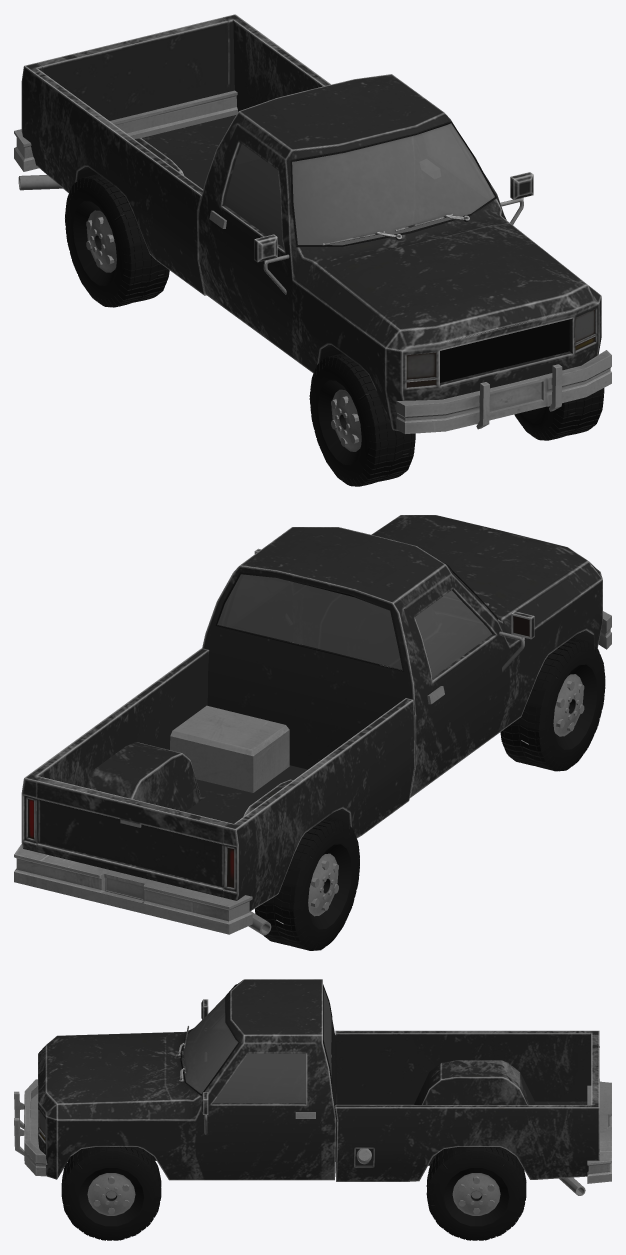
File: Тачка2.glb
The picture shows the model from 3 angles, top to bottom: view 1: azimuth 30°, elevation 25°; view 2: azimuth 150°, elevation 25°; view 3: azimuth 270°, elevation 25°; orthographic projection. The views are drawn at different scales.
Parts seen in each view (by area): view 1: pickup_body.003, pickup_wheel.003; view 2: pickup_body.003, pickup_wheel.003; view 3: pickup_body.003, pickup_wheel.003.
Part boxes in pixels (left/top/right/bottom): pickup_body.003: left=14, top=14, right=611, bottom=433; pickup_wheel.003: left=65, top=174, right=604, bottom=486; pickup_body.003: left=14, top=515, right=611, bottom=935; pickup_wheel.003: left=255, top=637, right=605, bottom=950; pickup_body.003: left=14, top=979, right=611, bottom=1195; pickup_wheel.003: left=61, top=1147, right=526, bottom=1240.
Bounding box in the file's own units: 1.94 × 1.76 × 4.89.
Materials: 1 (1 with a texture image).
